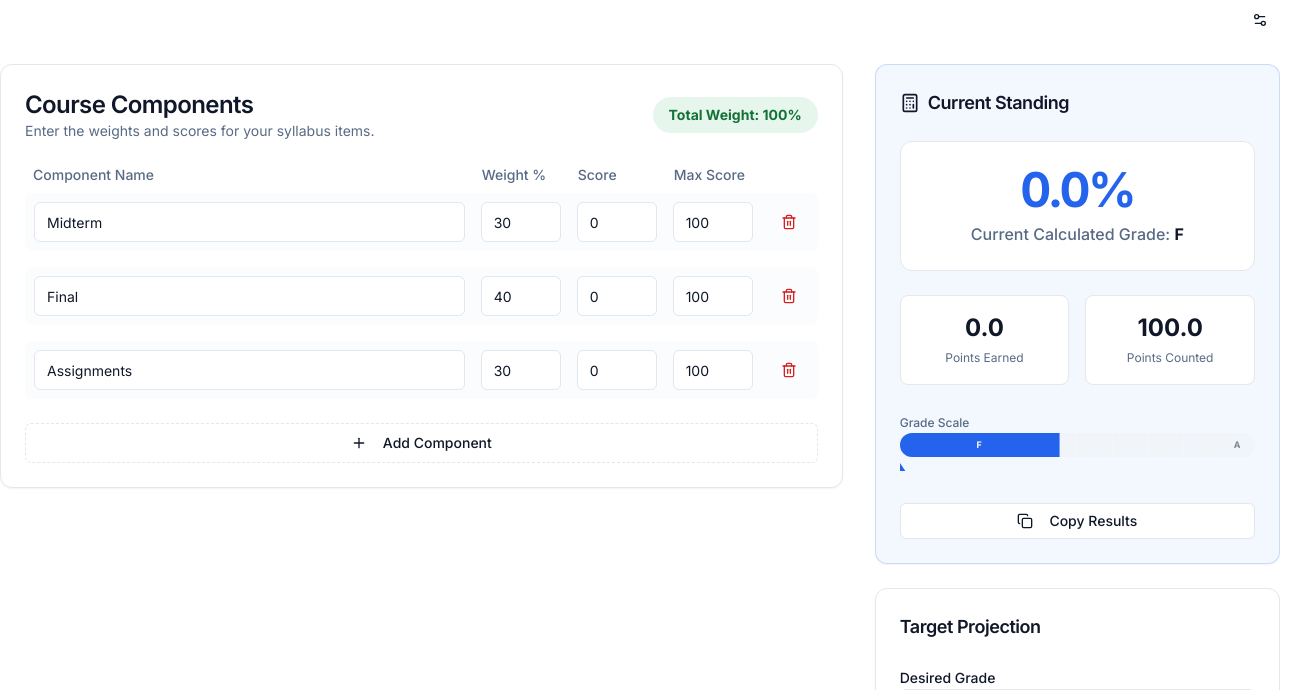
Test case: GradeCalculator Component › shows "Secured" when target already met
This screenshot has width=1292, height=690.
Step 1. Replace the text in the number field named "Weight percentage for" with "90" → (521, 222), box [481,202,561,242]
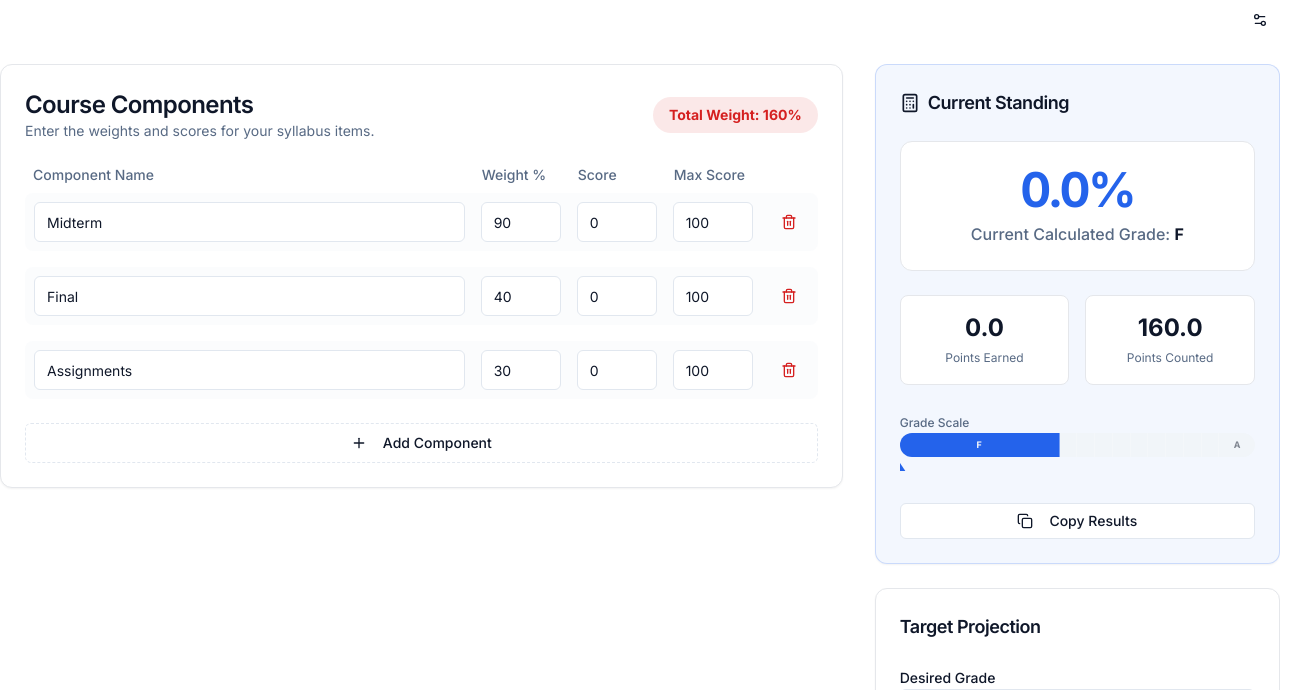
Step 2. Replace the text in the number field named "Score for" with "100" → (617, 222), box [577,202,657,242]
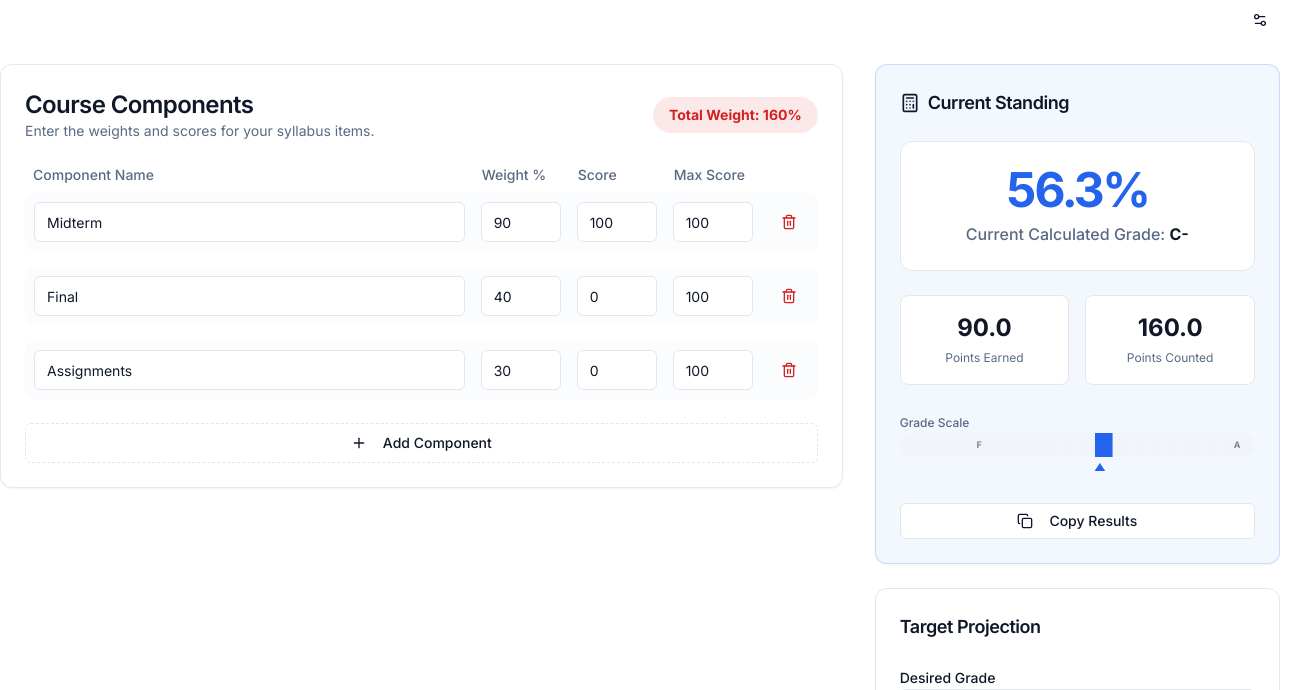
Step 3. Replace the text in the number field named "Weight percentage for" with "0" → (521, 296), box [481,276,561,316]
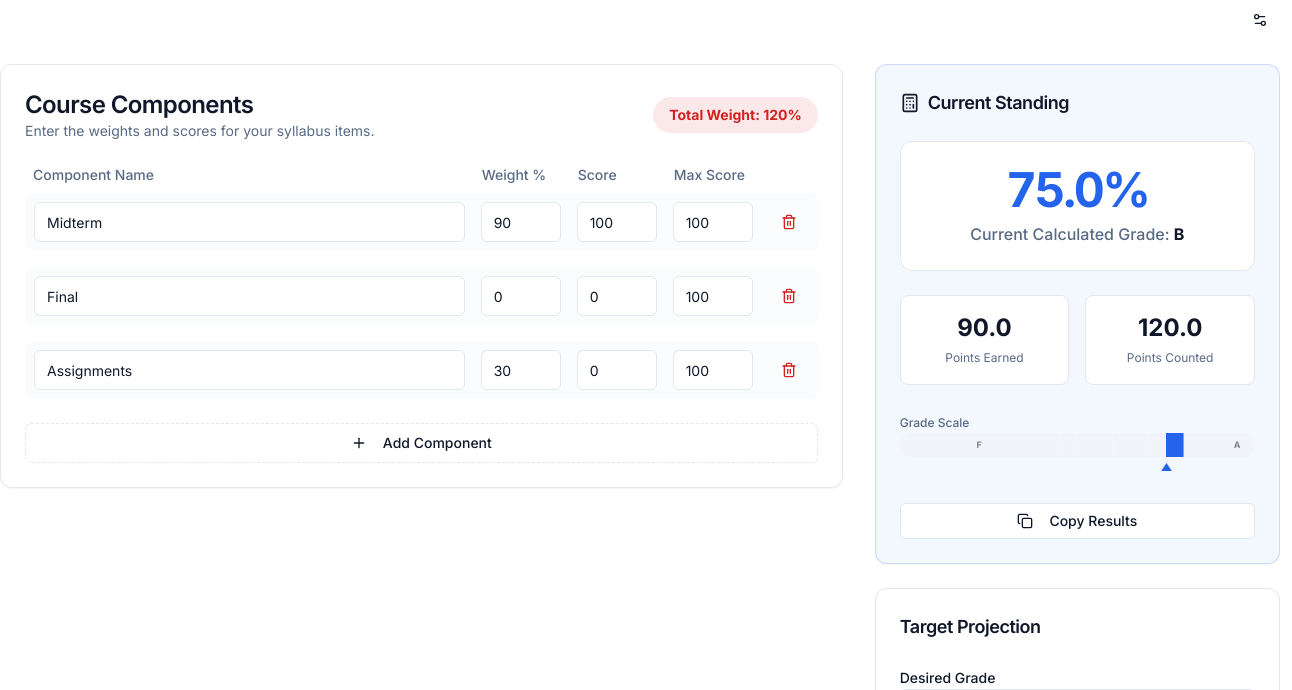
Step 4. Replace the text in the number field named "Weight percentage for" with "0" → (521, 370), box [481,350,561,390]
(page scrolled)
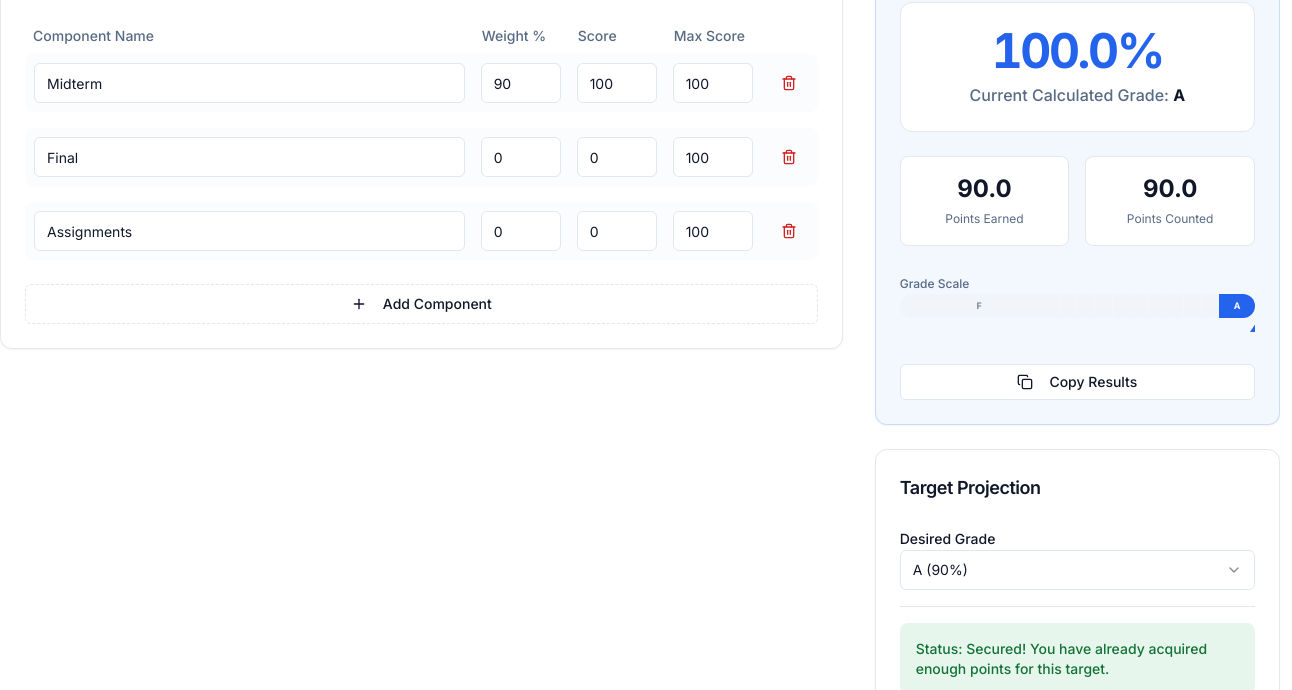
Check: the text "Secured" is shown, box [916,640,1207,677]
